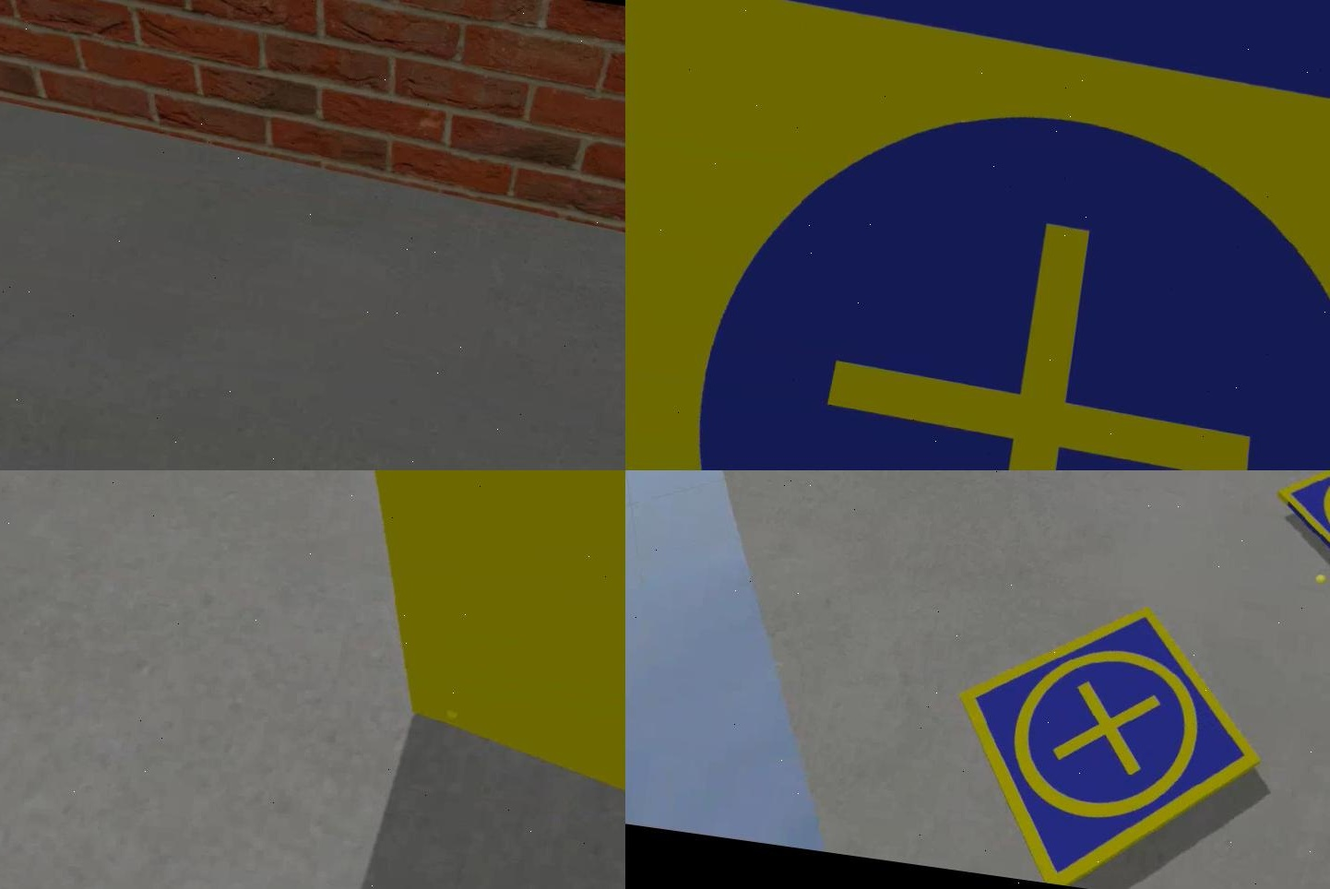large_base: (624, 1, 1328, 471)
small_base: (935, 582, 1278, 889), (1263, 471, 1328, 617)
